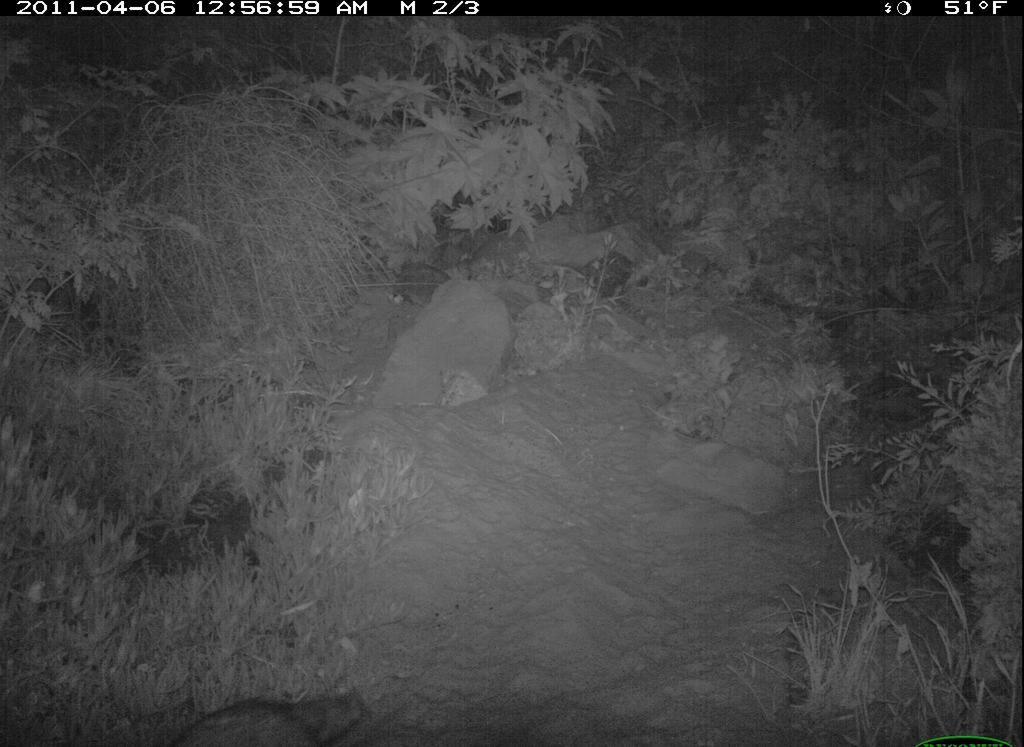raccoon: (155, 685, 375, 747)
